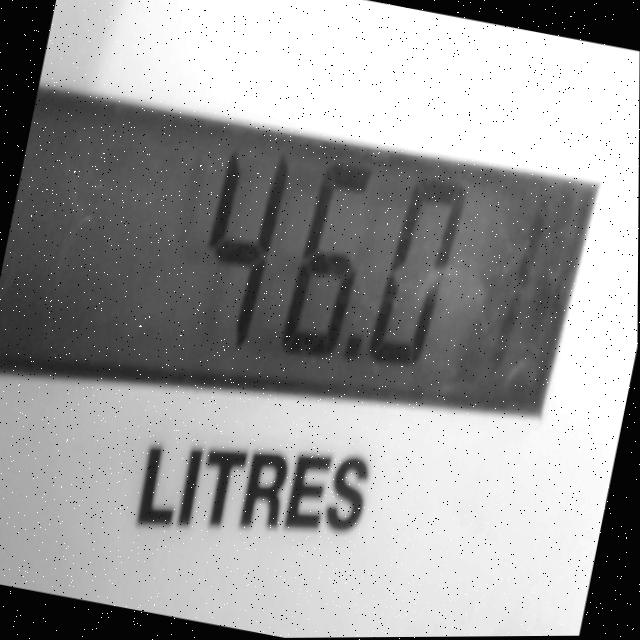.: (328, 327, 378, 393)
0: (355, 162, 487, 397)
1: (467, 168, 568, 391)
4: (174, 134, 307, 368)
6: (267, 143, 390, 385)
